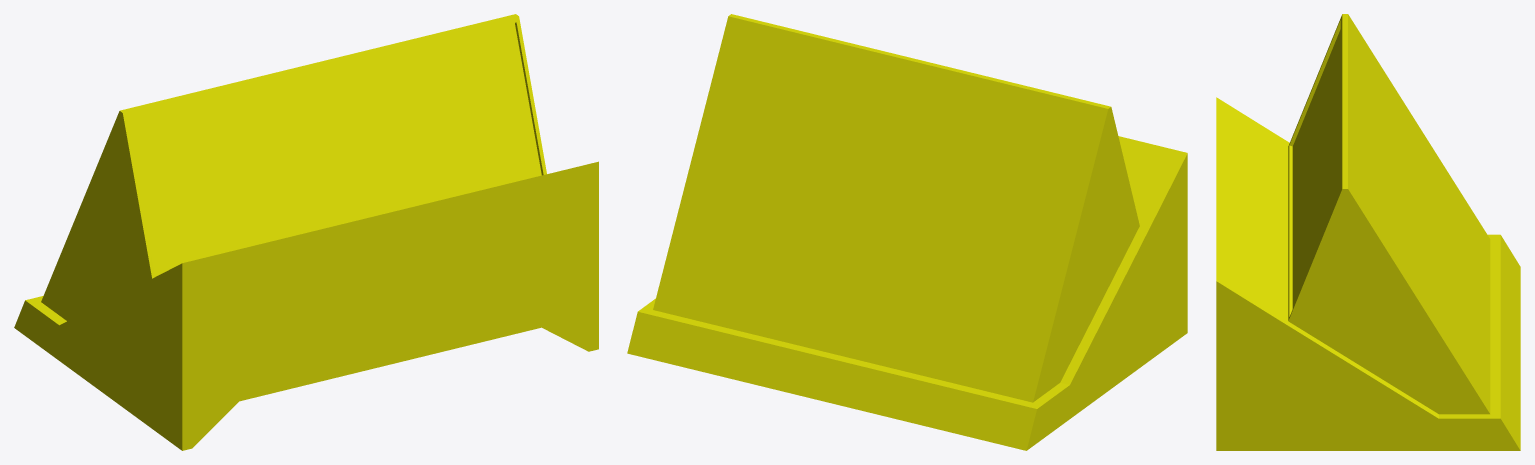
The model's file is Cell1DigiClock.fbx.
The picture shows the model from 3 angles, left to right: view 1: azimuth 30°, elevation 25°; view 2: azimuth 150°, elevation 25°; view 3: azimuth 270°, elevation 25°; orthographic projection. The views are drawn at different scales.
Parts seen in each view (by area): view 1: Cell1DigiClock; view 2: Cell1DigiClock; view 3: Cell1DigiClock.
Boxes of the visible parts, x1,y1,x2,y2 form: Cell1DigiClock: (14, 14, 598, 450); Cell1DigiClock: (627, 14, 1187, 450); Cell1DigiClock: (1216, 14, 1520, 450).
Bounding box in the file's own units: 44.08 × 28.77 × 30.83.
